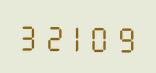nine: (114, 20, 137, 54)
one: (66, 19, 89, 53)
three: (18, 18, 41, 52)
two: (42, 19, 65, 52)
zero: (90, 20, 113, 53)
